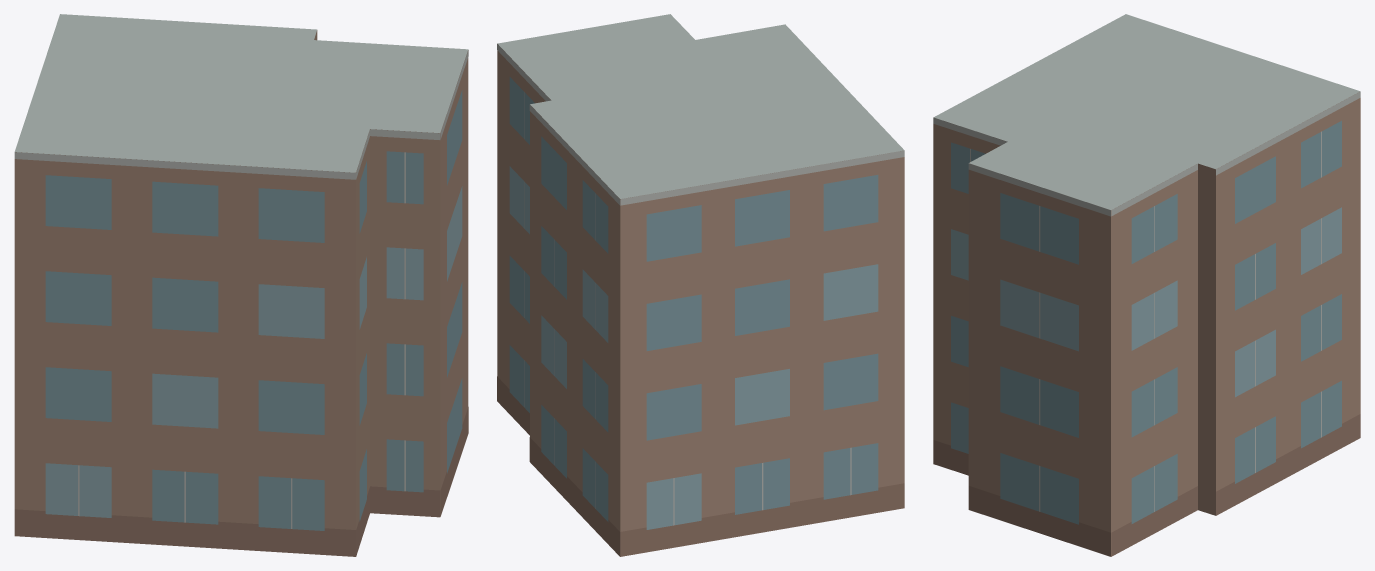
File: survey-upis-32670368.glb
The picture shows the model from 3 angles, left to right: view 1: azimuth 30°, elevation 25°; view 2: azimuth 150°, elevation 25°; view 3: azimuth 270°, elevation 25°; orthographic projection. The views are drawn at different scales.
Parts seen in each view (by area): view 1: survey-upis-32670368.tmp; view 2: survey-upis-32670368.tmp; view 3: survey-upis-32670368.tmp.
Boxes of the visible parts, box(x1,y1,x2,y2) form: survey-upis-32670368.tmp: box(14, 14, 468, 556); survey-upis-32670368.tmp: box(497, 14, 904, 556); survey-upis-32670368.tmp: box(933, 14, 1360, 556).
Bounding box in the file's own units: 16.2 × 13.34 × 14.9.
